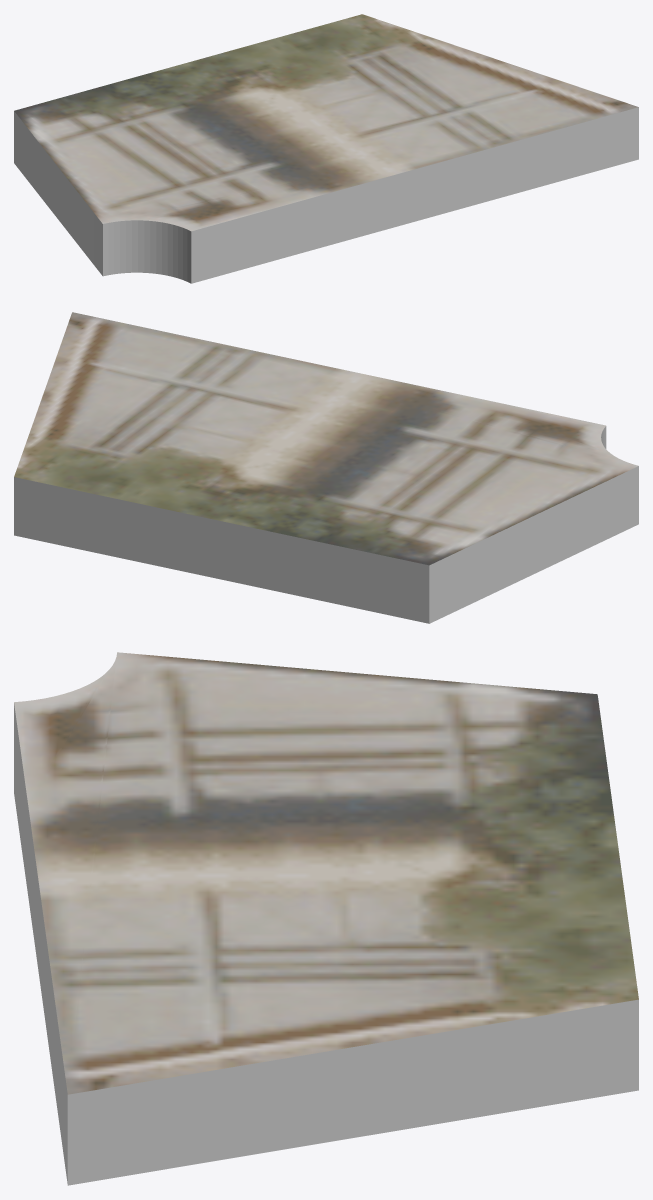
File: DEBW_001000qHywV.gltf
3 renders of one model, top to bottom at view 1: azimuth 30°, elevation 25°; view 2: azimuth 150°, elevation 25°; view 3: azimuth 270°, elevation 25°, orthographic. The views are drawn at different scales.
Visible parts, largest first — view 1: Z_UP; view 2: Z_UP; view 3: Z_UP.
Boxes of the visible parts, left/top/right/bottom form: Z_UP: left=14, top=14, right=638, bottom=283; Z_UP: left=14, top=312, right=638, bottom=623; Z_UP: left=14, top=652, right=638, bottom=1185.
Size of the model in its own units: 26.08 by 2.5 by 15.57.
Materials: 2 (1 with a texture image).
